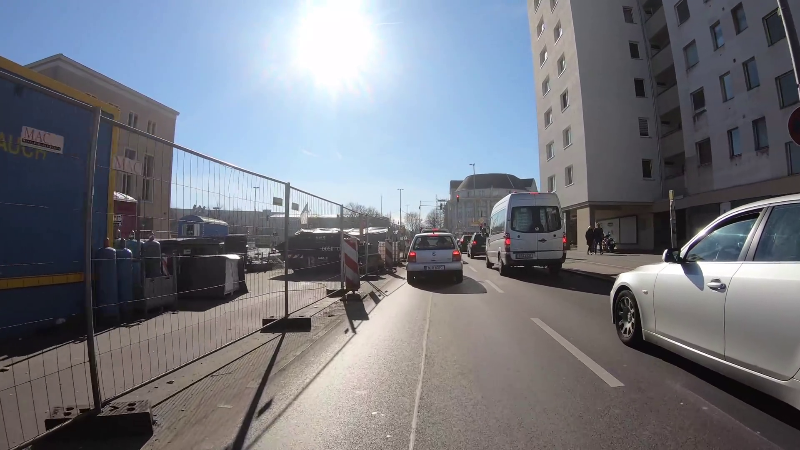Plate: (515, 251, 534, 259), (425, 264, 444, 271)
